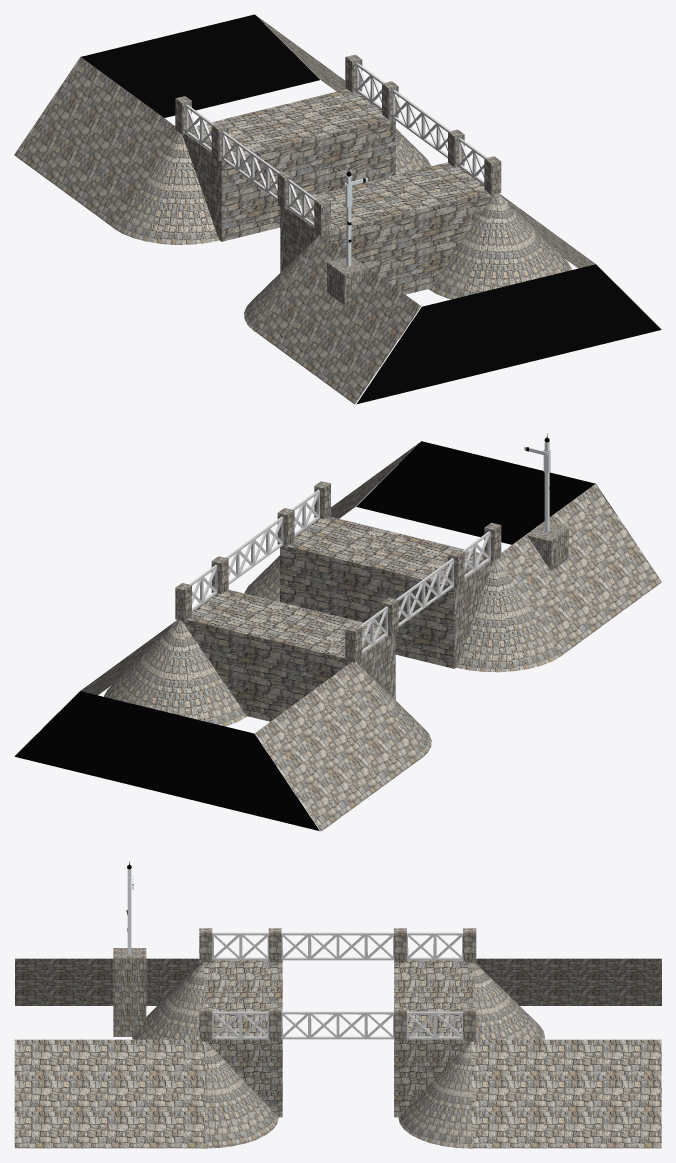
Rendered from takanawa_new.gltf.
3 renders of one model, top to bottom at view 1: azimuth 30°, elevation 25°; view 2: azimuth 150°, elevation 25°; view 3: azimuth 270°, elevation 25°, orthographic. The views are drawn at different scales.
Parts seen in each view (by area): view 1: Cube.005, Cube.001, Cube, Cube.006, Cone.001, Cone.002, Cone, Cube.004, 36293d2e-52da-46e8-a376-773d77a16e18.088, 36293d2e-52da-46e8-a376-773d77a16e18.086, 36293d2e-52da-46e8-a376-773d77a16e18.085, 36293d2e-52da-46e8-a376-773d77a16e18.100 (+29 smaller); view 2: Cube.006, Cube, Cube.001, Cube.005, Cone.003, Cone, Cone.002, Cube.004, 36293d2e-52da-46e8-a376-773d77a16e18.085, 36293d2e-52da-46e8-a376-773d77a16e18.087, 36293d2e-52da-46e8-a376-773d77a16e18.098, 36293d2e-52da-46e8-a376-773d77a16e18.099 (+28 smaller); view 3: Cube, Cube.001, Cone.001, Cone.003, Cone.002, Cone, Cube.004, 36293d2e-52da-46e8-a376-773d77a16e18.034, 36293d2e-52da-46e8-a376-773d77a16e18.035, 36293d2e-52da-46e8-a376-773d77a16e18.047, 36293d2e-52da-46e8-a376-773d77a16e18.048, 36293d2e-52da-46e8-a376-773d77a16e18.049 (+71 smaller).
Boxes of the visible parts, left/top/right/bottom form: Cube.005: left=356, top=264, right=661, bottom=404; Cube.001: left=182, top=89, right=395, bottom=241; Cube: left=280, top=162, right=492, bottom=294; Cube.006: left=81, top=14, right=319, bottom=117; Cone.001: left=428, top=193, right=571, bottom=299; Cone.002: left=113, top=133, right=219, bottom=244; Cone: left=244, top=235, right=318, bottom=331; Cube.004: left=327, top=256, right=368, bottom=304; 36293d2e-52da-46e8-a376-773d77a16e18.088: left=74, top=166, right=116, bottom=213; 36293d2e-52da-46e8-a376-773d77a16e18.086: left=34, top=136, right=76, bottom=184; 36293d2e-52da-46e8-a376-773d77a16e18.085: left=14, top=122, right=56, bottom=169; 36293d2e-52da-46e8-a376-773d77a16e18.100: left=315, top=342, right=356, bottom=389; Cube.006: left=15, top=691, right=319, bottom=830; Cube: left=280, top=516, right=493, bottom=668; Cube.001: left=182, top=589, right=395, bottom=721; Cube.005: left=356, top=441, right=639, bottom=548; Cone.003: left=104, top=620, right=246, bottom=726; Cone: left=456, top=560, right=562, bottom=672; Cone.002: left=357, top=663, right=431, bottom=758; Cube.004: left=527, top=522, right=568, bottom=570; 36293d2e-52da-46e8-a376-773d77a16e18.085: left=299, top=784, right=340, bottom=831; 36293d2e-52da-46e8-a376-773d77a16e18.087: left=339, top=754, right=380, bottom=802; 36293d2e-52da-46e8-a376-773d77a16e18.098: left=559, top=593, right=601, bottom=640; 36293d2e-52da-46e8-a376-773d77a16e18.099: left=580, top=578, right=621, bottom=625; Cube: left=204, top=960, right=282, bottom=1117; Cube.001: left=394, top=960, right=472, bottom=1117; Cone.001: left=203, top=1041, right=278, bottom=1148; Cone.003: left=398, top=1041, right=473, bottom=1148; Cone.002: left=472, top=962, right=544, bottom=1039; Cone: left=132, top=962, right=203, bottom=1039; Cube.004: left=113, top=948, right=146, bottom=1036; 36293d2e-52da-46e8-a376-773d77a16e18.034: left=14, top=1111, right=52, bottom=1148; 36293d2e-52da-46e8-a376-773d77a16e18.035: left=52, top=1111, right=90, bottom=1148; 36293d2e-52da-46e8-a376-773d77a16e18.047: left=509, top=1111, right=547, bottom=1148; 36293d2e-52da-46e8-a376-773d77a16e18.048: left=547, top=1111, right=585, bottom=1148; 36293d2e-52da-46e8-a376-773d77a16e18.049: left=585, top=1111, right=623, bottom=1148.
Bounding box in the file's own units: 27.02 × 15.12 × 51.94.
Materials: 3 (1 with a texture image).
